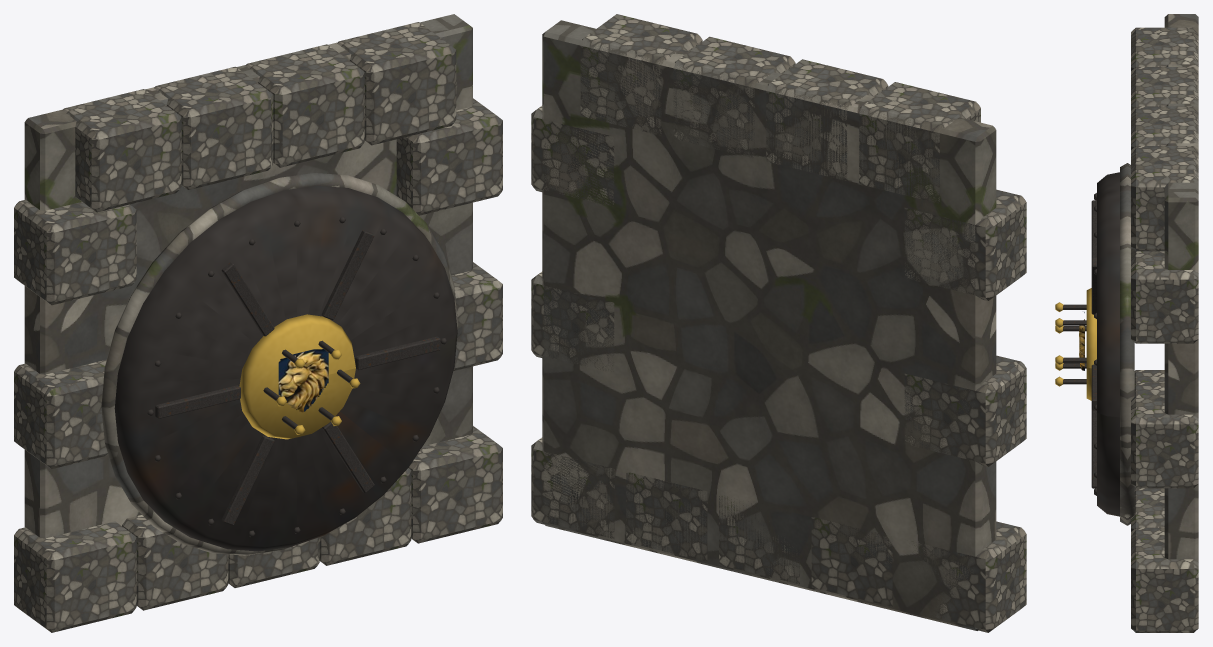
File: vault_door.glb
3 views of the same model, side by side, from view 1: azimuth 30°, elevation 25°; view 2: azimuth 150°, elevation 25°; view 3: azimuth 270°, elevation 25° (orthographic). The views are drawn at different scales.
Parts seen in each view (by area): view 1: vault_door; view 2: vault_door; view 3: vault_door.
Boxes of the visible parts, bbox=[...] form: vault_door: bbox=[14, 14, 502, 632]; vault_door: bbox=[531, 14, 1026, 632]; vault_door: bbox=[1055, 14, 1198, 632].
Bounding box in the file's own units: 2.74 × 2.81 × 0.8455.
Materials: 1 (1 with a texture image).
